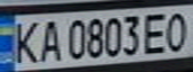0: (63, 16, 87, 61), (103, 14, 124, 58)
3: (121, 11, 145, 57)
8: (84, 15, 106, 60)
A: (33, 17, 63, 63)
E: (139, 9, 172, 55)
K: (6, 17, 42, 65)
O: (160, 8, 193, 52)
